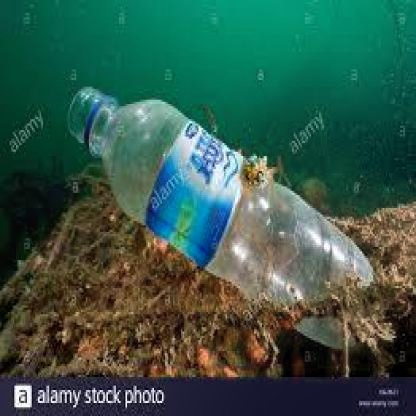pbottle: (60, 72, 373, 358)
